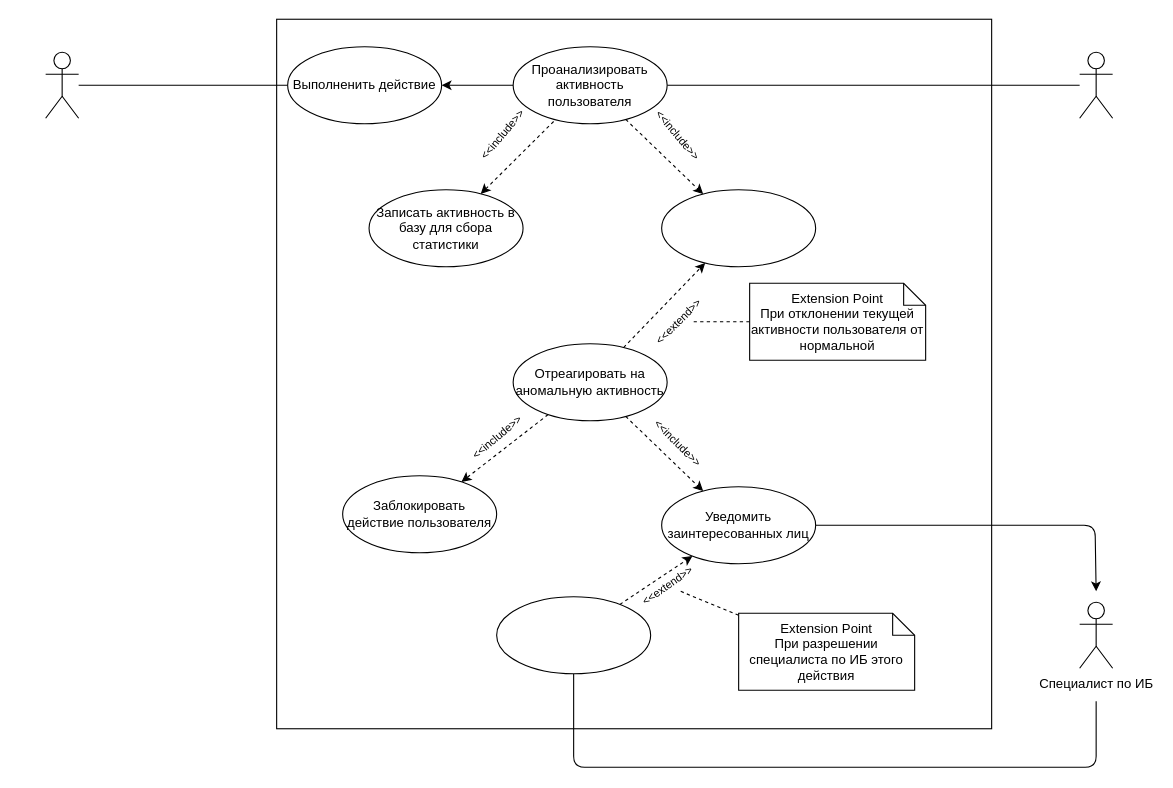
Some shapes in this 1173 by 788 pixel diagram are drawn without their labels. Each missing label, with the centre of its shape:
Перехватчик активности пользователей: point (1096, 84)
Пользователь: point (62, 84)
Разрешить дейсвие пользователя: point (573, 635)
Стравненить активность с нормальной: point (738, 228)
